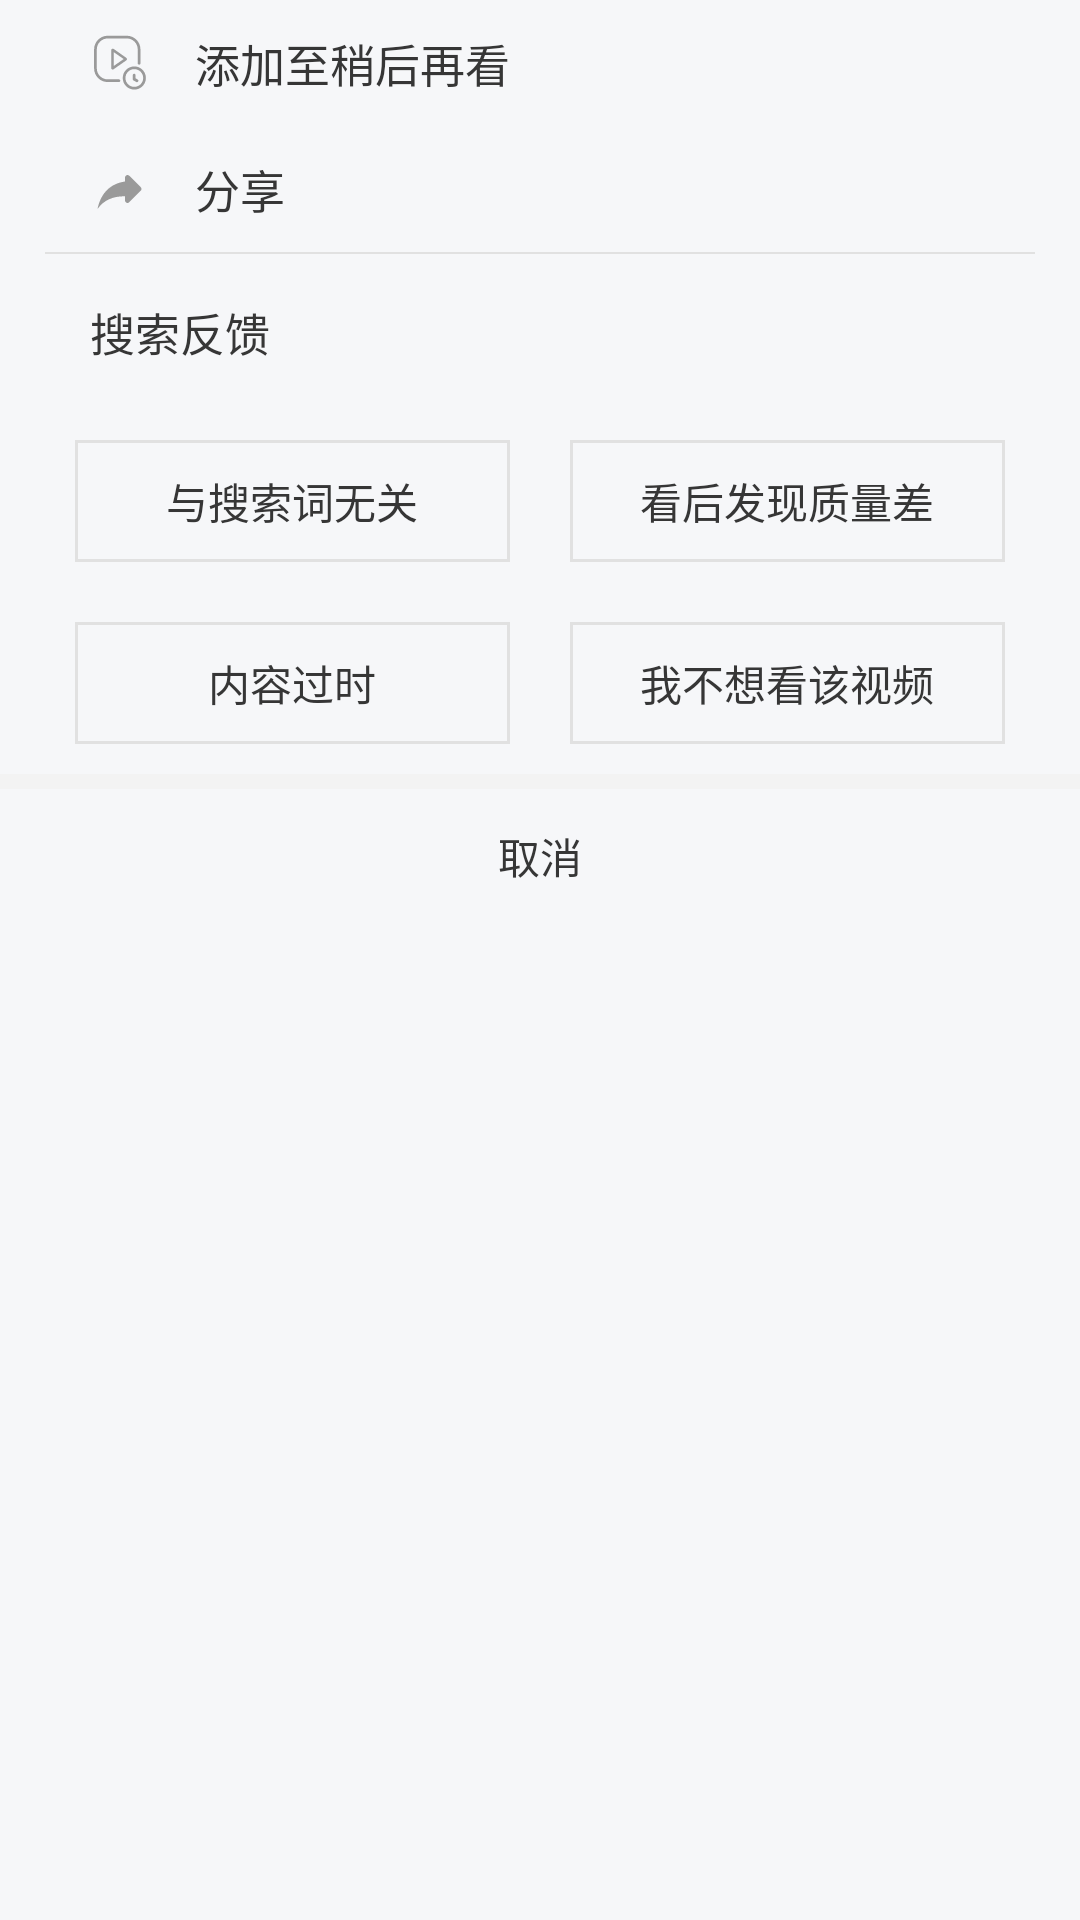

Locate icon controls on the screen. Image size 1080*1920, boxes as bbox=[x1, y1, x2, y2].
shaohouguankan: bbox=[94, 36, 146, 90]
